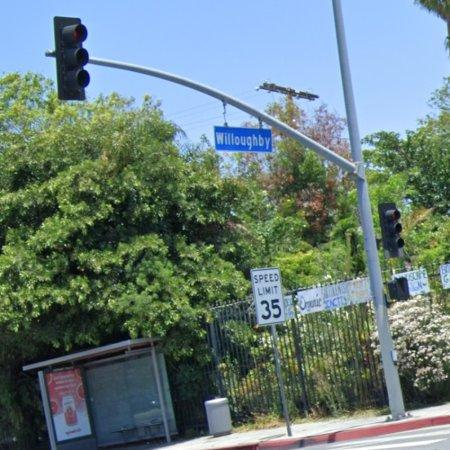traffic lights: (55, 16, 90, 99)
